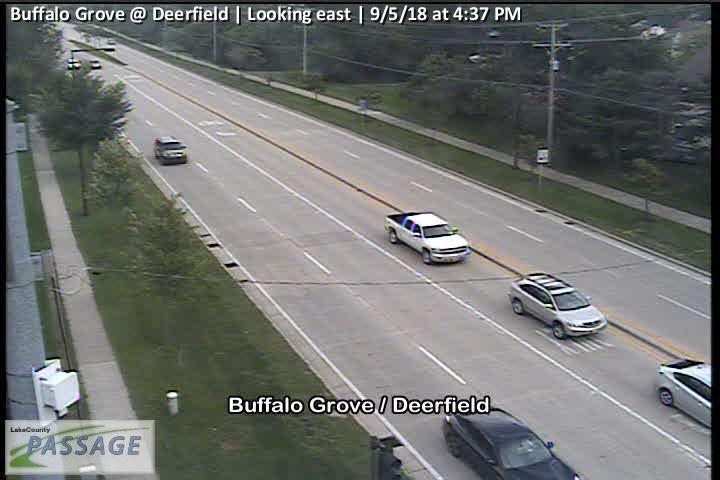SUV: (153, 135, 189, 163)
Sedan: (443, 404, 578, 480), (510, 271, 608, 340), (657, 360, 713, 429), (67, 59, 81, 68), (88, 60, 102, 68)
Truck: (385, 211, 472, 265)
